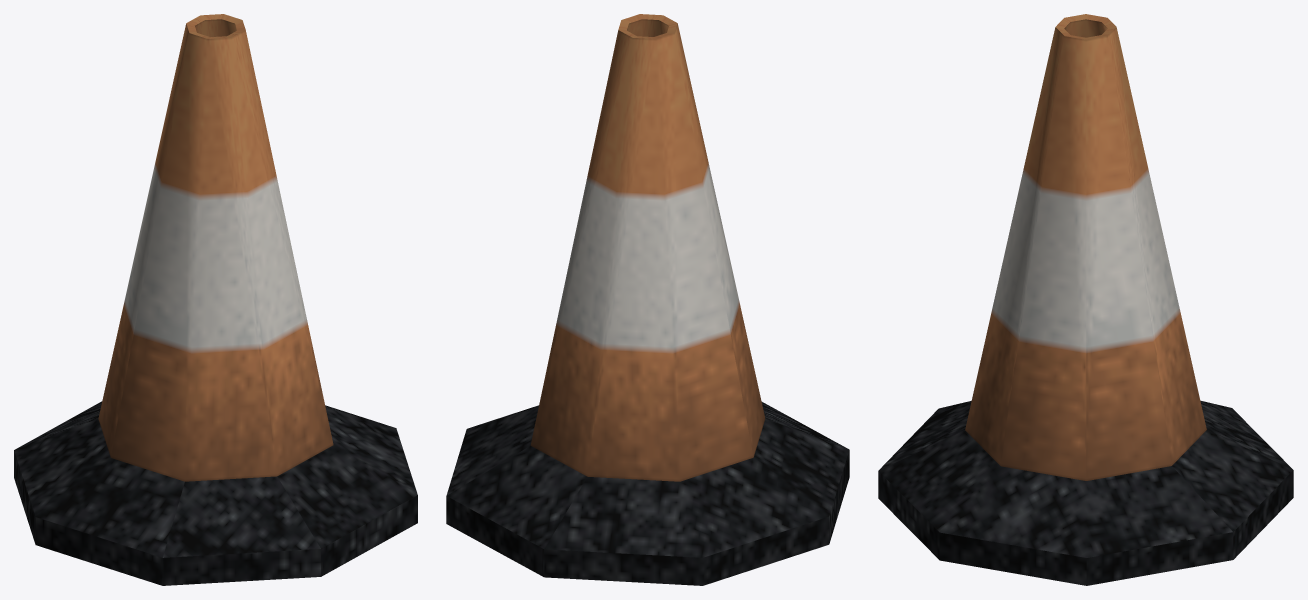
Rendered from SM_EC_Traffic_Cone_0.fbx.
The picture shows the model from 3 angles, left to right: view 1: azimuth 30°, elevation 25°; view 2: azimuth 150°, elevation 25°; view 3: azimuth 270°, elevation 25°; orthographic projection.
Parts seen in each view (by area): view 1: SM_EC_Traffic_Cone_0; view 2: SM_EC_Traffic_Cone_0; view 3: SM_EC_Traffic_Cone_0.
Boxes of the visible parts, left/top/right/bottom form: SM_EC_Traffic_Cone_0: left=14, top=14, right=417, bottom=585; SM_EC_Traffic_Cone_0: left=446, top=14, right=849, bottom=585; SM_EC_Traffic_Cone_0: left=878, top=14, right=1293, bottom=585.
Size of the model in its own units: 0.8362 by 0.8362 by 1.05.
